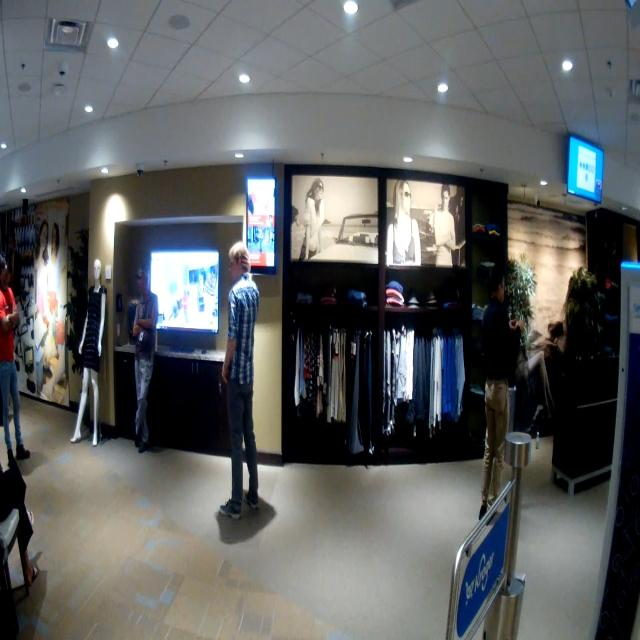normal: (211, 239, 268, 530), (468, 276, 520, 539), (0, 247, 42, 484), (125, 257, 162, 464)
